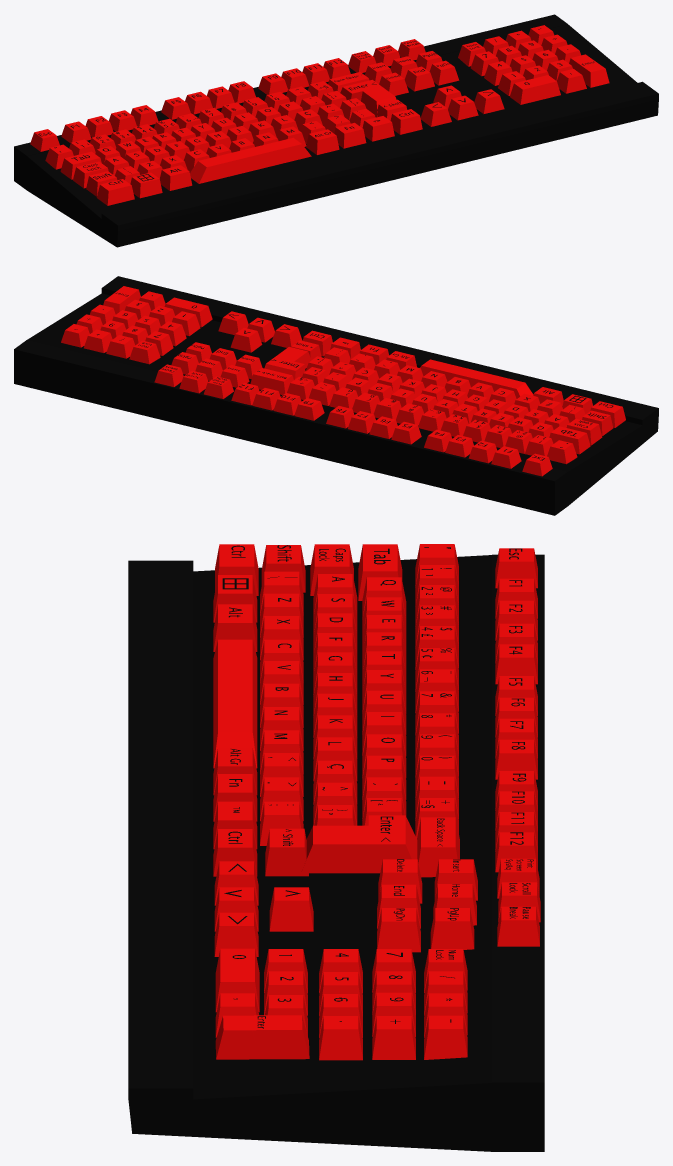
File: gamer_keyboard.glb
The picture shows the model from 3 angles, top to bottom: view 1: azimuth 30°, elevation 25°; view 2: azimuth 150°, elevation 25°; view 3: azimuth 270°, elevation 25°; orthographic projection. The views are drawn at different scales.
Parts seen in each view (by area): view 1: group79_pasted__group5_pasted__pasted__typeMesh1; view 2: group79_pasted__group5_pasted__pasted__typeMesh1; view 3: group79_pasted__group5_pasted__pasted__typeMesh1, group79_pasted__group5_pasted__pasted__typeMesh1_pasted__pas.
Part boxes in pixels (<box>): group79_pasted__group5_pasted__pasted__typeMesh1: <box>14,14,658,247</box>; group79_pasted__group5_pasted__pasted__typeMesh1: <box>14,276,658,515</box>; group79_pasted__group5_pasted__pasted__typeMesh1: <box>128,544,544,1151</box>; group79_pasted__group5_pasted__pasted__typeMesh1_pasted__pas: <box>224,568,524,1023</box>.
Bounding box in the file's own units: 0.153 × 0.0131 × 0.051.
